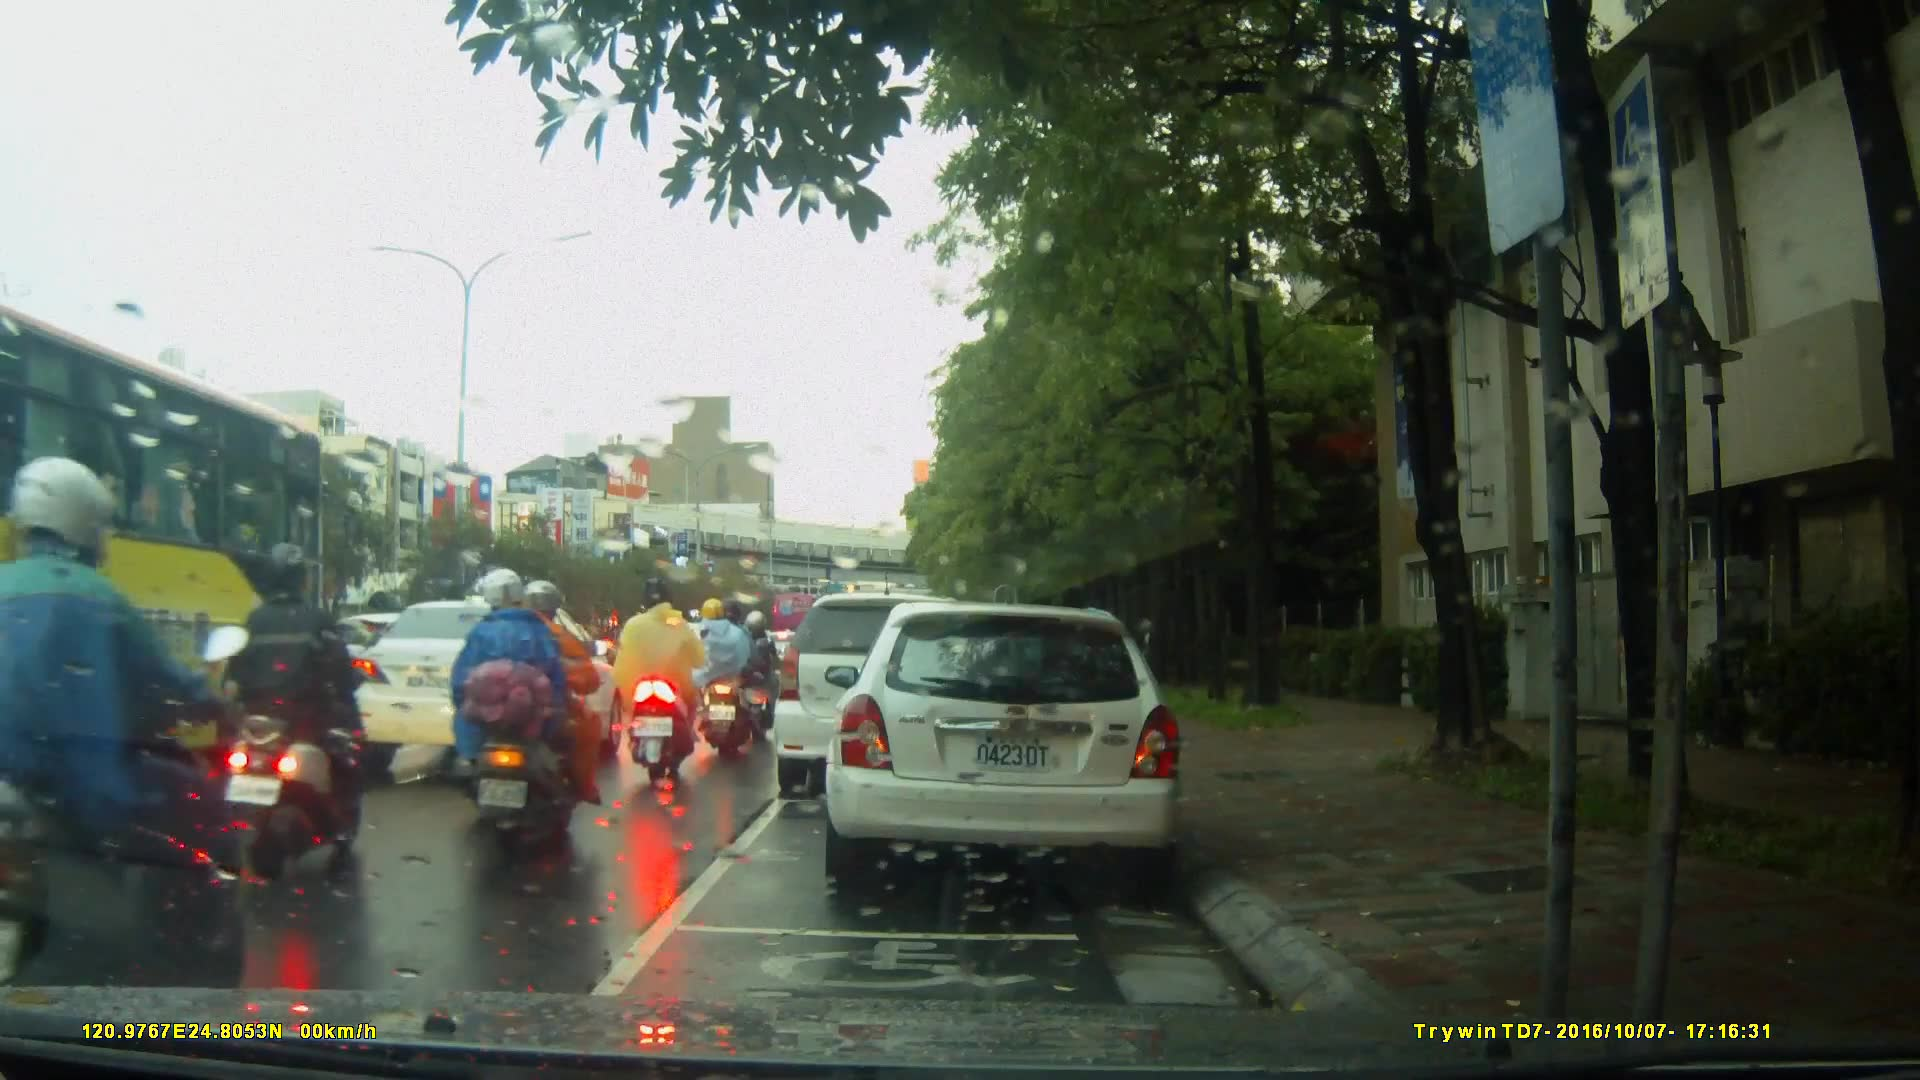rider: (1, 471, 279, 1017), (200, 540, 367, 869), (451, 572, 606, 847), (602, 569, 706, 785), (697, 594, 758, 751), (729, 612, 782, 737)
vehicle: (1, 299, 336, 829), (835, 594, 1194, 898), (351, 598, 628, 783), (776, 590, 1026, 784)
